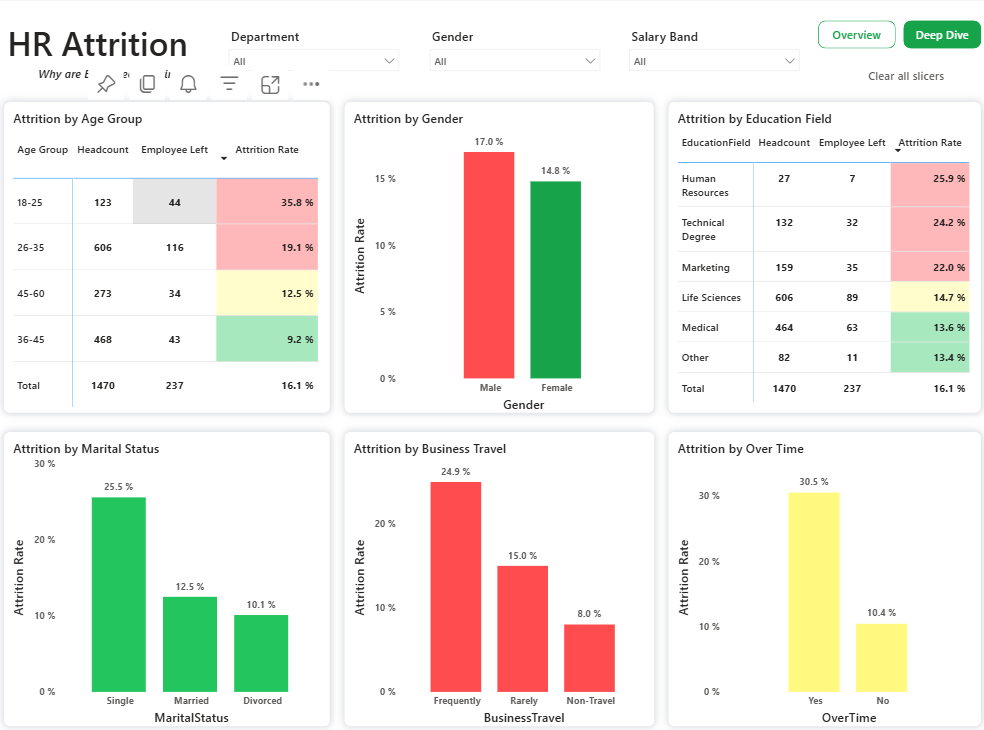

Layout of this report page (visuals, bound fields, positions):
{"tool":"powerbi","page":{"name":"Deep Dive","canvas":[1300,950],"ordinal":1},"visuals":[{"type":"textbox","box":[18.3,20.1,279.5,84],"z":0},{"type":"textbox","box":[18.3,76.7,279.5,51.2],"z":1000},{"type":"slicer","fields":{"Values":["hr_employees.Department"]},"box":[297.8,29.2,239.3,98.6],"z":2000},{"type":"slicer","fields":{"Values":["hr_employees.Gender"]},"box":[555.4,29.2,239.3,98.6],"z":3000},{"type":"slicer","fields":{"Values":["hr_employees.Salary Band"]},"box":[812.9,29.2,239.3,98.6],"z":4000},{"type":"actionButton","box":[1092,78,173,36],"z":5000},{"type":"pageNavigator","box":[1066,25,211,36.5],"z":6000},{"type":"clusteredColumnChart","title":"Attrition by Marital Status","fields":{"Category":["hr_employees.MaritalStatus"],"Y":["hr_employees.Attrition Rate"]},"box":[17.4,553.4,420.4,379.9],"z":7000},{"type":"clusteredColumnChart","title":"Attrition by Business Travel","fields":{"Category":["hr_employees.BusinessTravel"],"Y":["hr_employees.Attrition Rate"]},"box":[455.6,553.4,400,379.9],"z":8000},{"type":"clusteredColumnChart","title":"Attrition by Over Time","fields":{"Category":["hr_employees.OverTime"],"Y":["hr_employees.Attrition Rate"]},"box":[873.5,553.4,403,379.9],"z":9000},{"type":"clusteredColumnChart","title":"Attrition by Gender","fields":{"Category":["hr_employees.Gender"],"Y":["hr_employees.Attrition Rate"]},"box":[455.1,129.2,399.2,401.1],"z":10000},{"type":"pivotTable","title":"Attrition by Age Group","fields":{"Rows":["hr_employees.Age Group"],"Values":["hr_employees.Headcount","hr_employees.Employee Left","hr_employees.Attrition Rate"]},"box":[17.4,129.2,420.4,401.1],"z":11000},{"type":"pivotTable","title":"Attrition by Education Field","fields":{"Rows":["hr_employees.EducationField"],"Values":["hr_employees.Headcount","hr_employees.Employee Left","hr_employees.Attrition Rate"]},"box":[873.5,129.2,403,401.1],"z":12000}]}

Visuals, with their boxes on the page's 1300x950 design canvas (x1, y1, x2, y2). These are canvas units, not pixel positions in the 984x730 screenshot, which may show the page scaled, cropped or inside an application window:
textbox: bbox(18, 20, 298, 104)
textbox: bbox(18, 77, 298, 128)
slicer - hr_employees.Department: bbox(298, 29, 537, 128)
slicer - hr_employees.Gender: bbox(555, 29, 795, 128)
slicer - hr_employees.Salary Band: bbox(813, 29, 1052, 128)
actionButton: bbox(1092, 78, 1265, 114)
pageNavigator: bbox(1066, 25, 1277, 62)
"Attrition by Marital Status" clusteredColumnChart: bbox(17, 553, 438, 933)
"Attrition by Business Travel" clusteredColumnChart: bbox(456, 553, 856, 933)
"Attrition by Over Time" clusteredColumnChart: bbox(874, 553, 1276, 933)
"Attrition by Gender" clusteredColumnChart: bbox(455, 129, 854, 530)
"Attrition by Age Group" pivotTable: bbox(17, 129, 438, 530)
"Attrition by Education Field" pivotTable: bbox(874, 129, 1276, 530)
